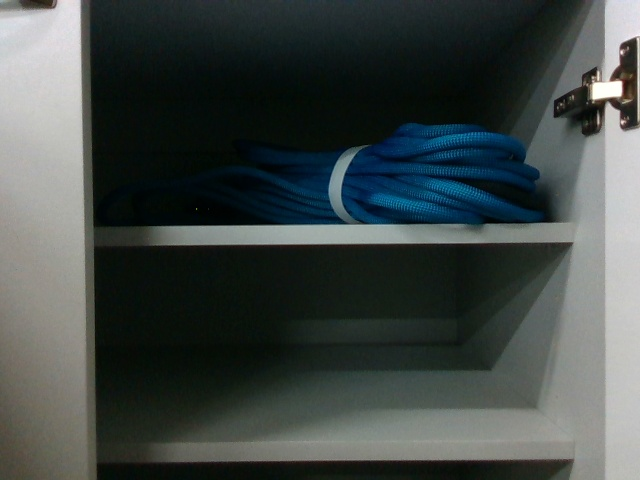rope: (279, 128, 541, 221)
